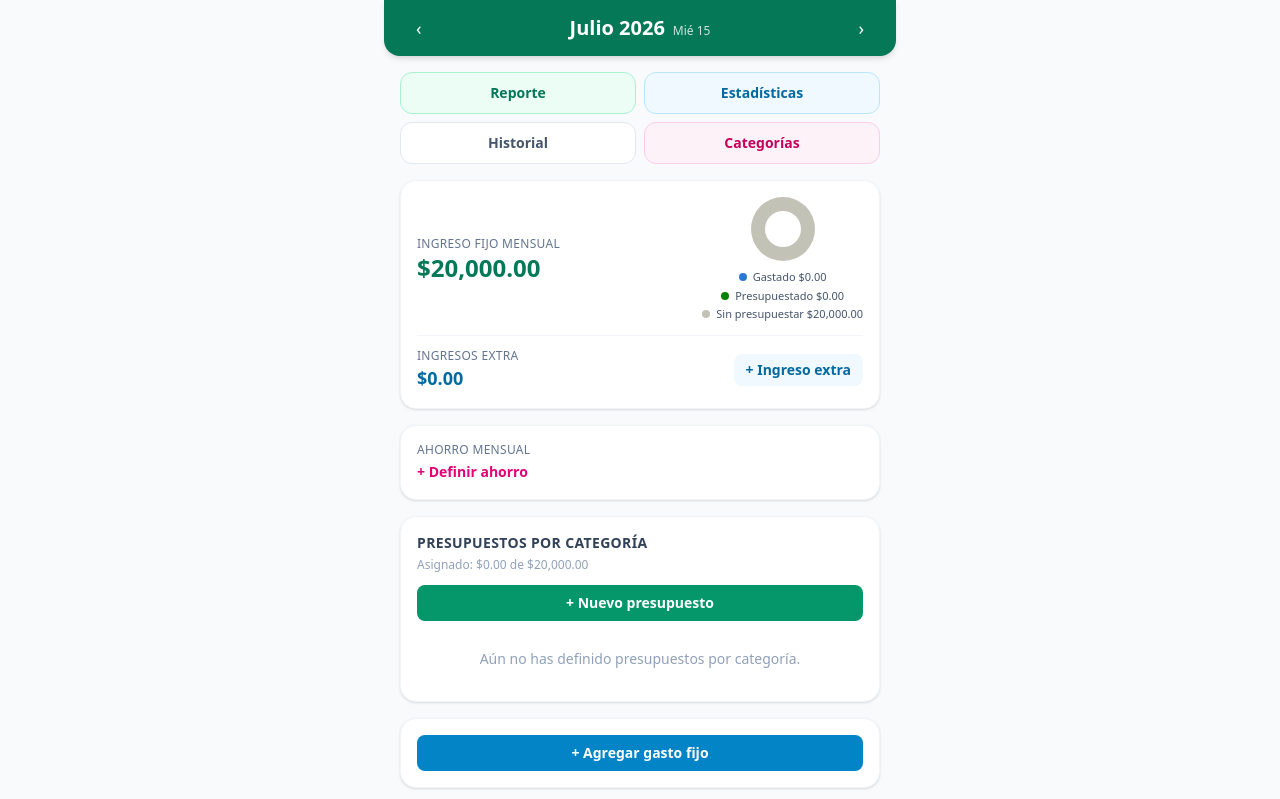
Test case: DashboardRoute › crear un presupuesto nuevo a través del modal actualiza la lista sin recargar la ruta
Click the button "+ Nuevo presupuesto" at (640,602), box [417, 584, 863, 620]
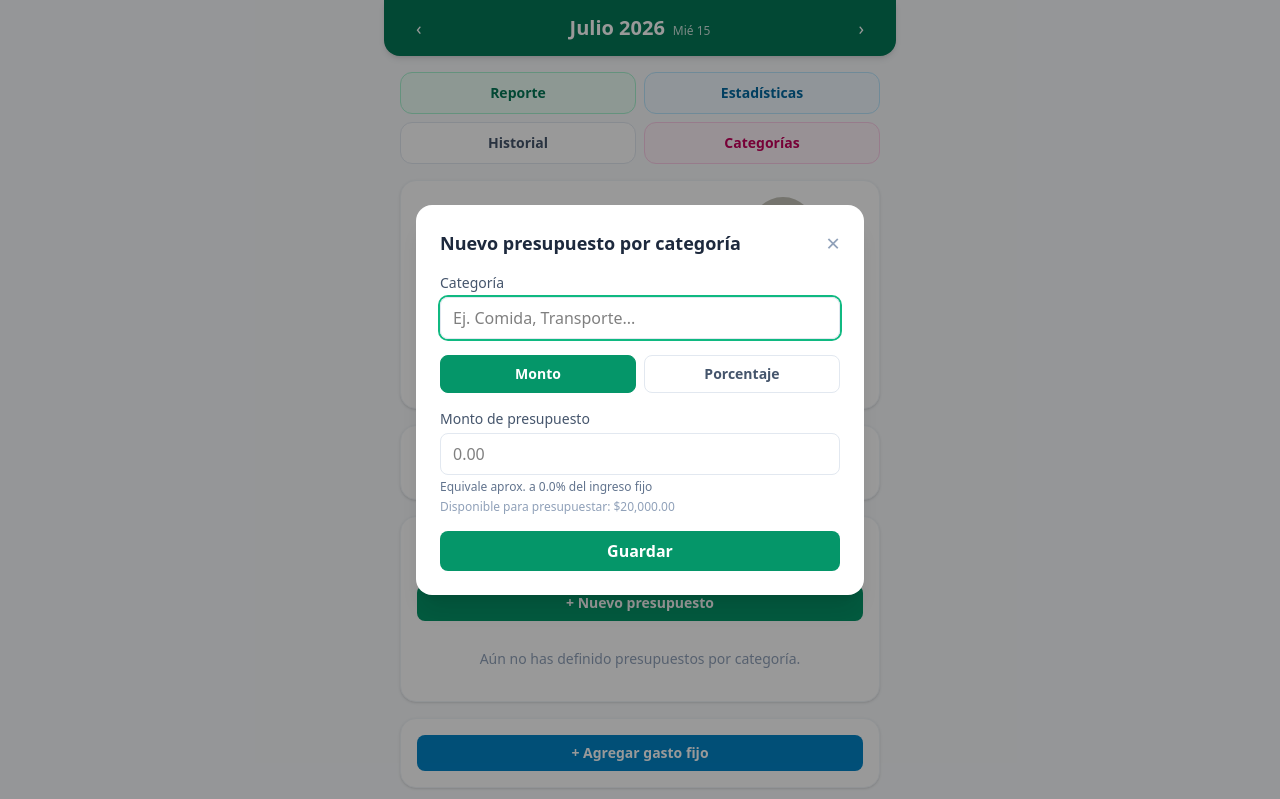
Type "Ocio" into the field with placeholder "Ej. Comida, Transporte..." at (640,318), box [440, 297, 840, 339]
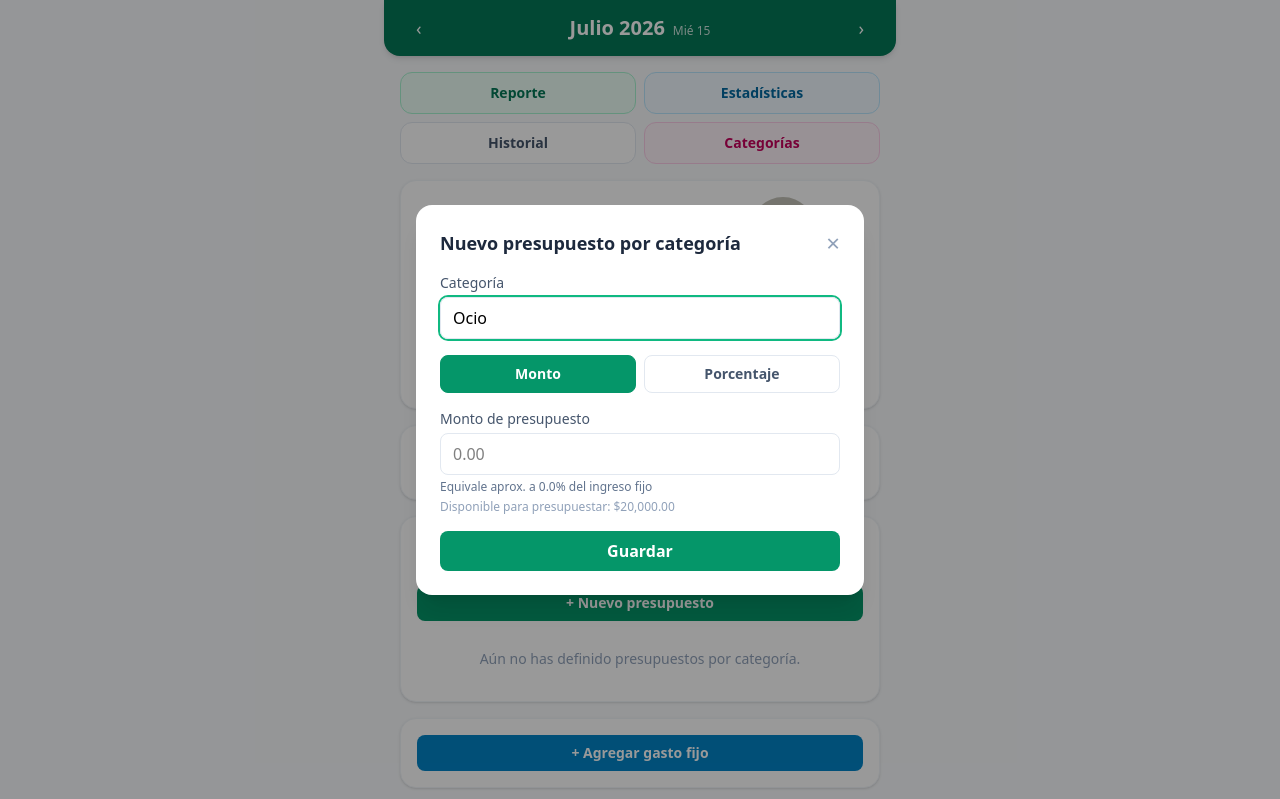
Type "1000" into the number field with placeholder "0.00" at (640,454), box [440, 433, 840, 475]
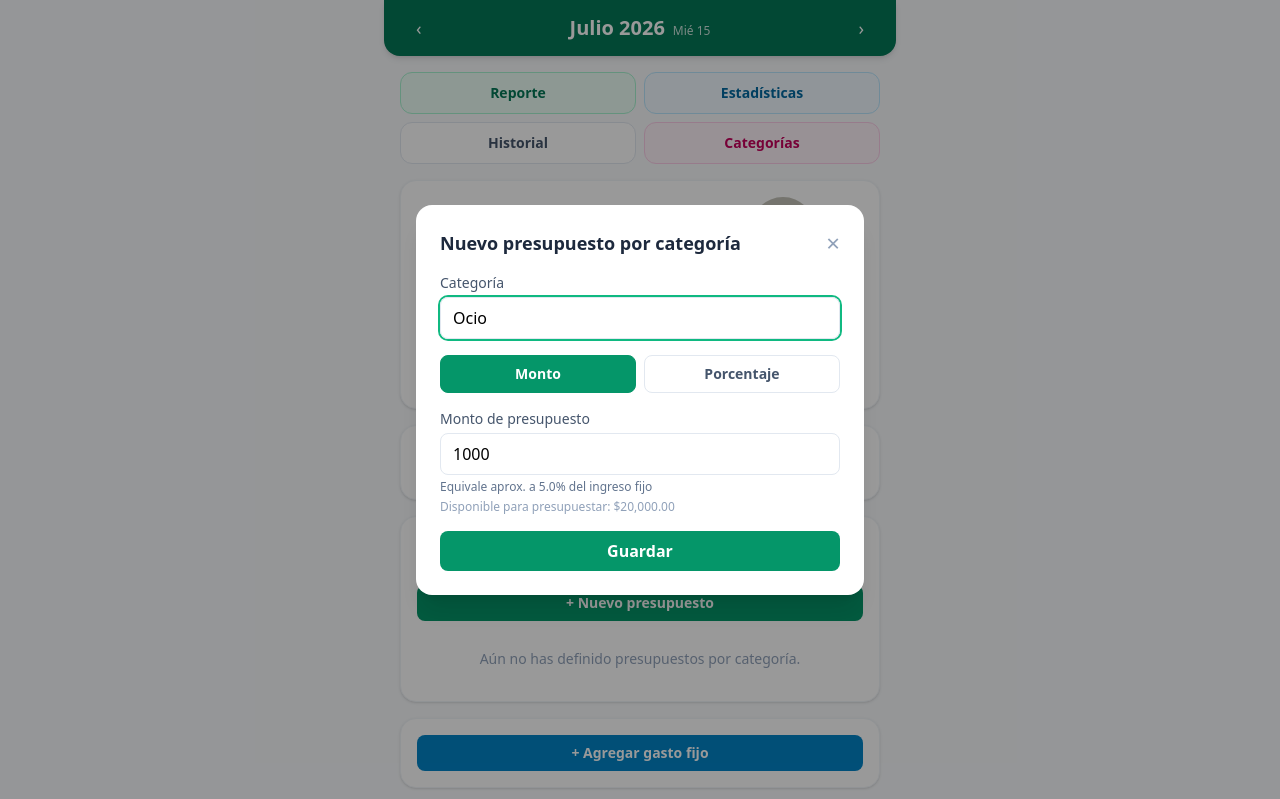
Click the button "Guardar" at (640,551), box [440, 531, 840, 571]
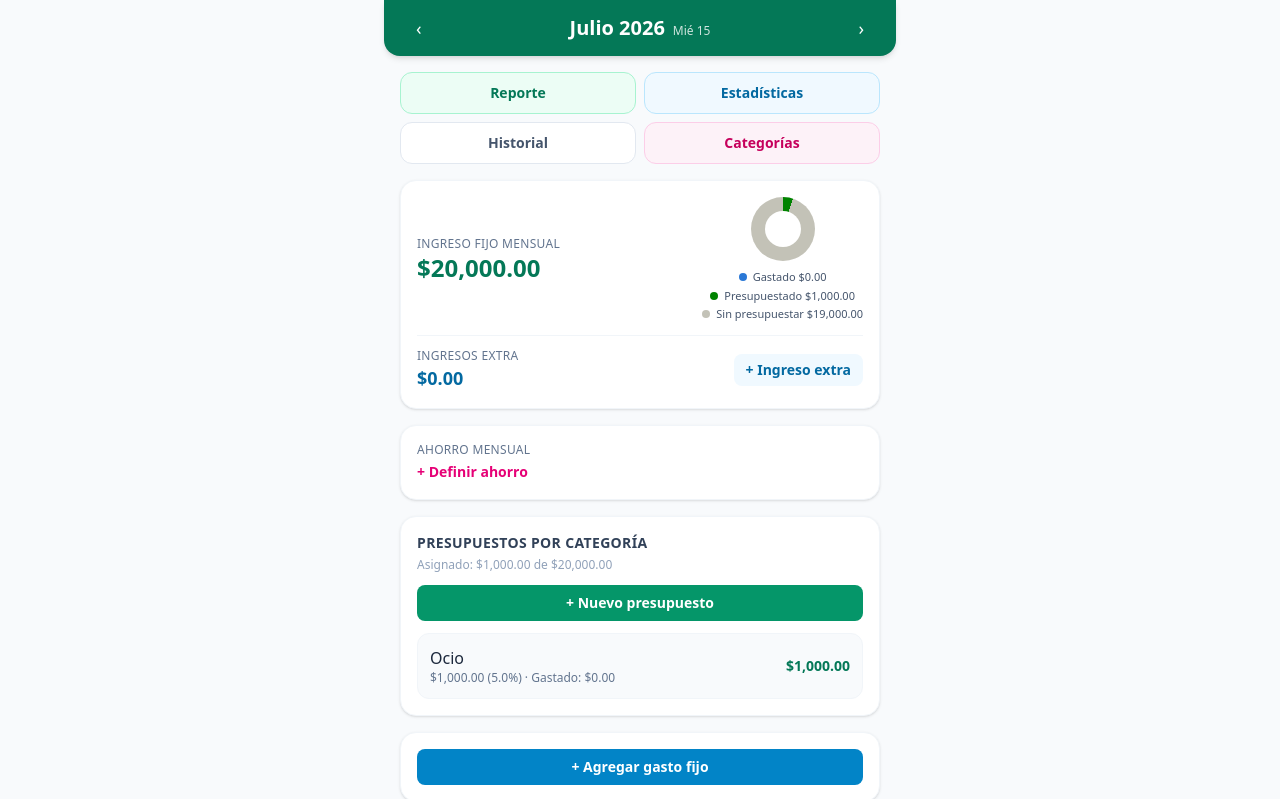
Expected: the text "Ocio" is shown, [430, 646, 464, 668]
Expected: the text "$1,000.00" is shown, [786, 656, 850, 676]
